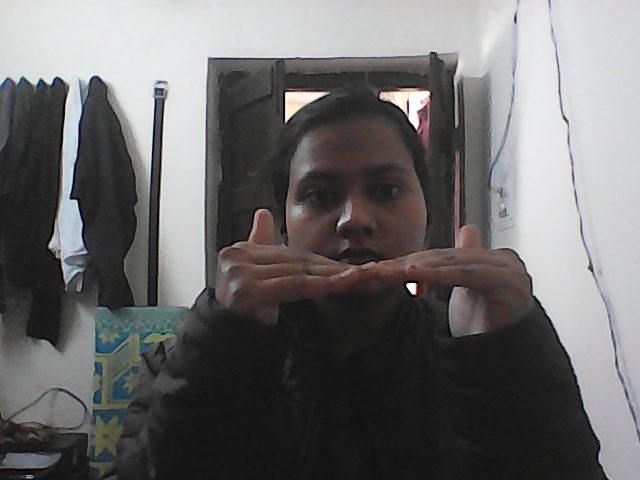Equal: (141, 208, 588, 405)
